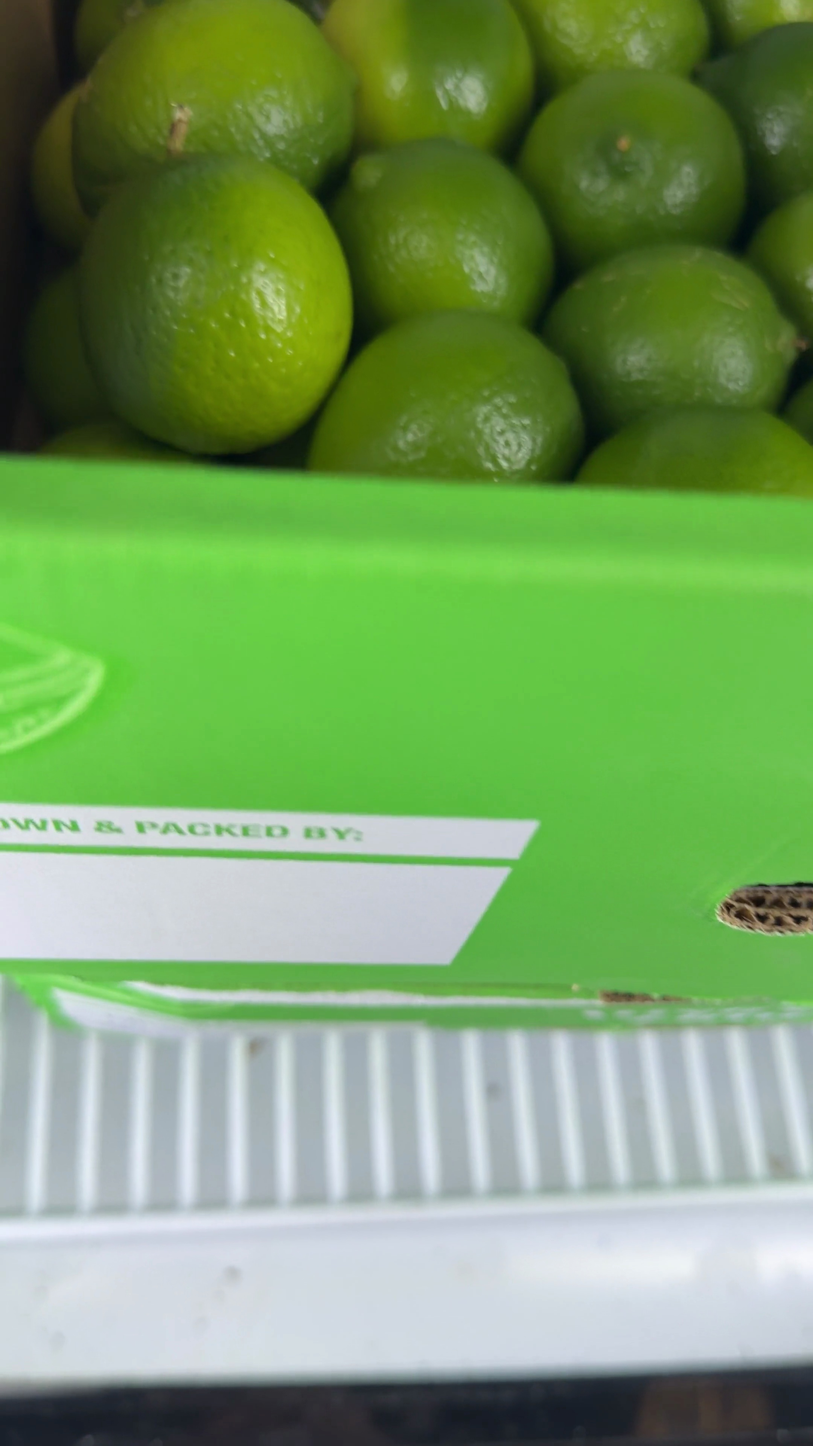lime: (80, 157, 352, 453), (74, 0, 353, 214), (544, 245, 796, 436), (309, 311, 583, 482), (519, 71, 744, 271), (331, 139, 553, 333), (323, 0, 534, 149), (700, 22, 813, 209), (578, 407, 813, 496), (513, 0, 709, 93), (23, 268, 110, 430), (30, 86, 90, 251), (748, 191, 813, 343), (40, 418, 206, 466), (74, 0, 158, 73), (705, 0, 813, 50), (240, 419, 315, 471), (783, 378, 813, 444)
